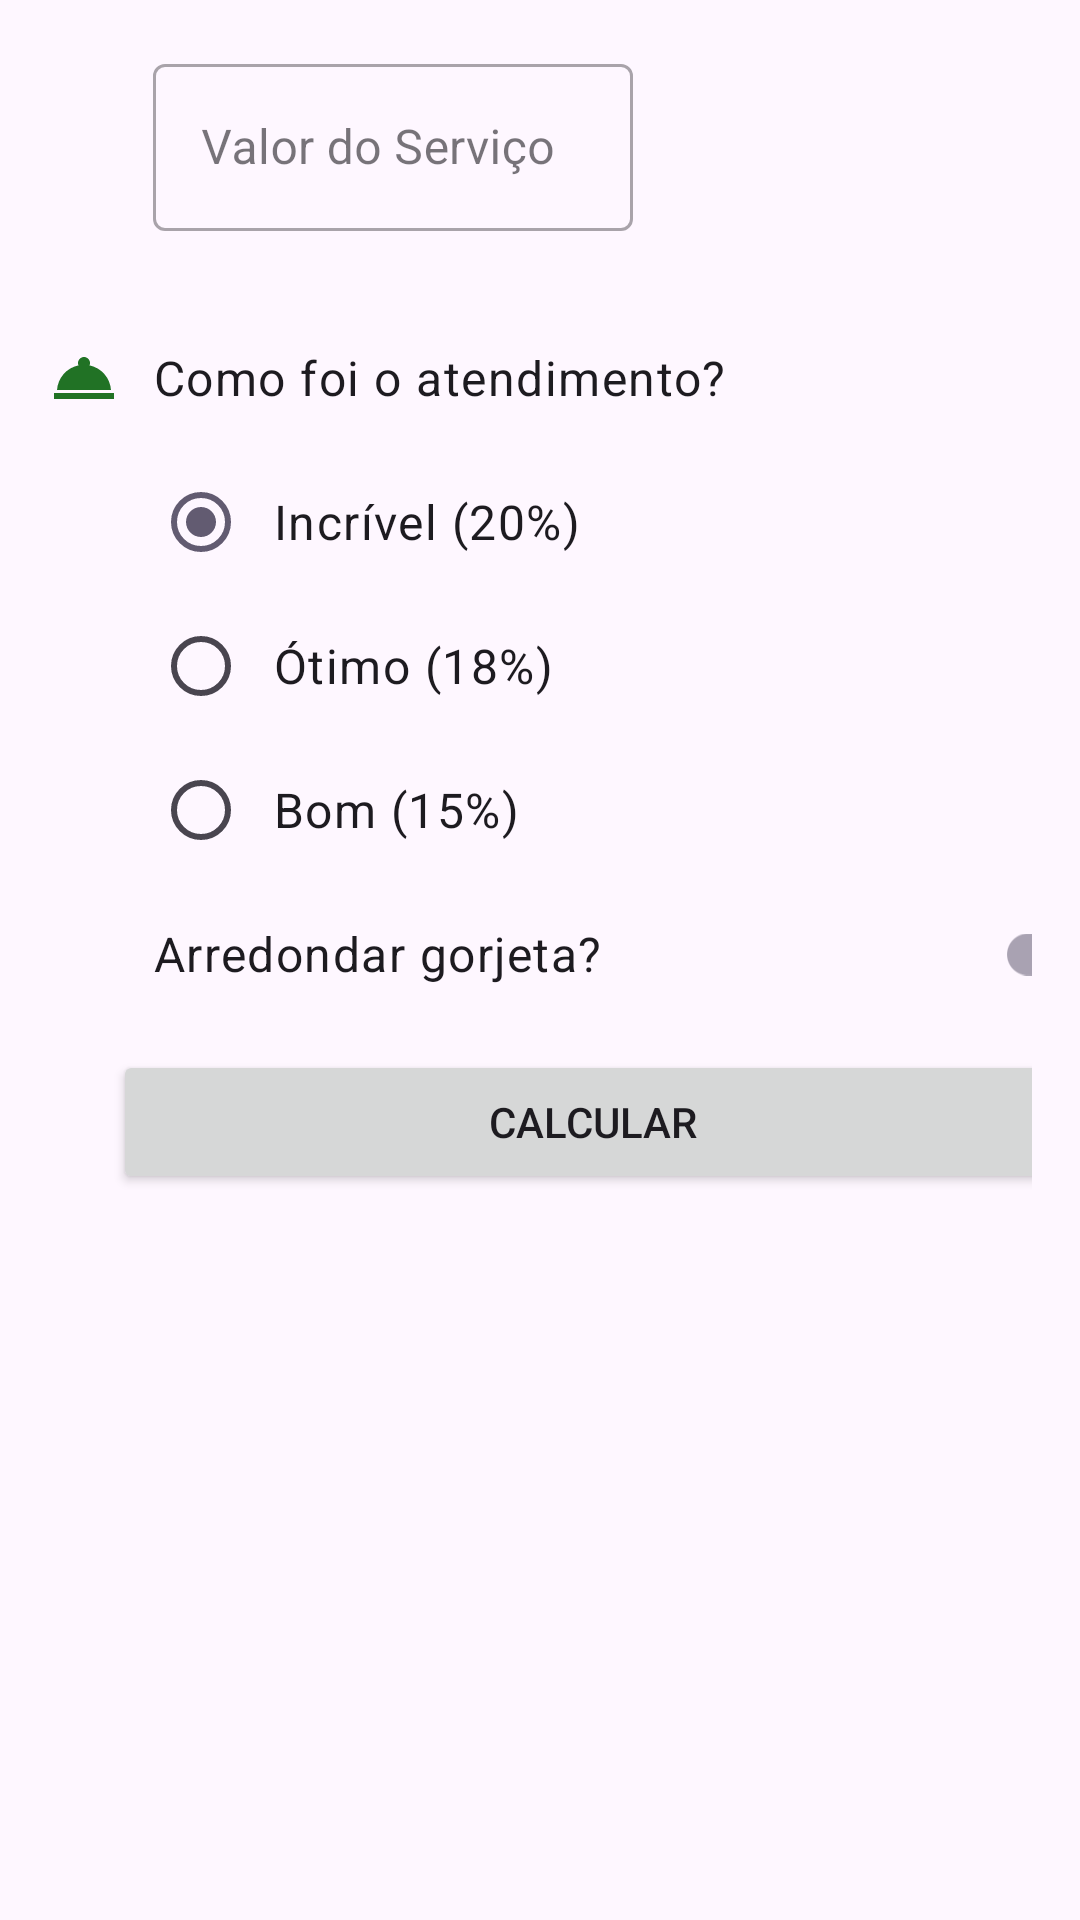

Where to tap for icons on this 1080x1920 app screen, as (x,y):
servico: (84,378)
